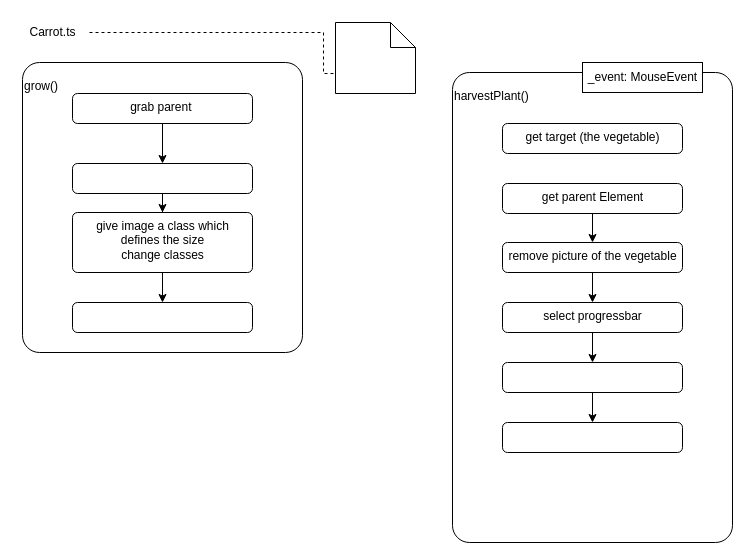
The diagram is 750 pixels wide and 560 high, and some of its shapes have lost their labels. Here are the shapes that lost their labels. From the top down, the centre of each, then its label:
At point 375,58: "represents all Plants".
At point 162,178: "create new Image for carrot".
At point 162,317: "appendChild to field".
At point 592,377: "grab image in progressbar".
At point 592,437: "capital + sellPrice".
